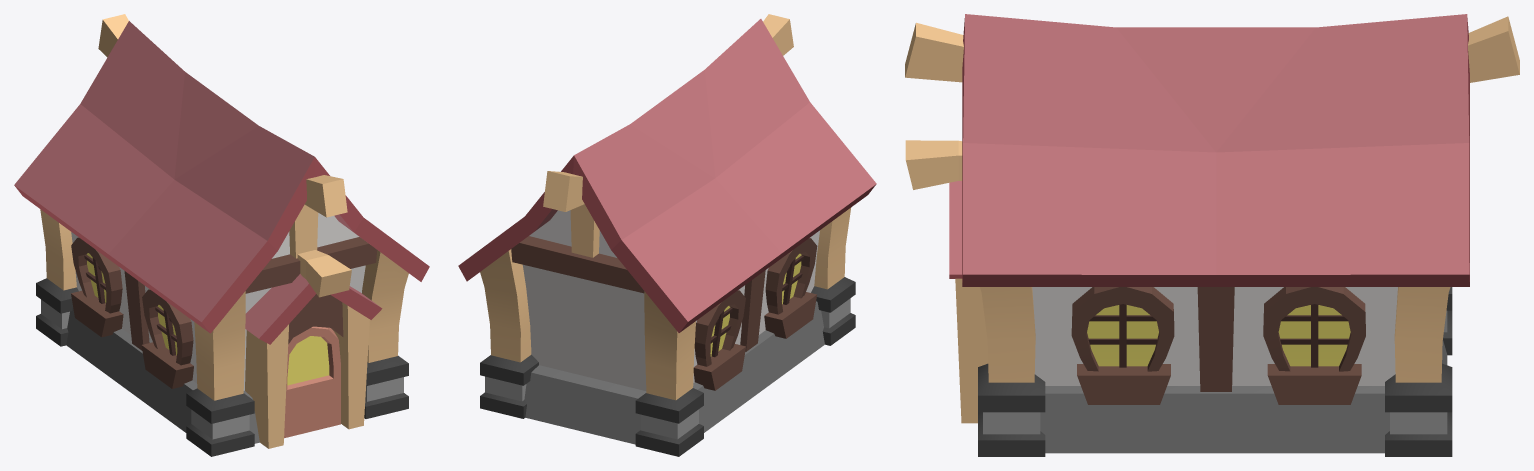
The model's file is building_011.fbx.
3 renders of one model, left to right at view 1: azimuth 30°, elevation 25°; view 2: azimuth 150°, elevation 25°; view 3: azimuth 270°, elevation 25°, orthographic. The views are drawn at different scales.
Visible parts, largest first — view 1: building.011; view 2: building.011; view 3: building.011.
Boxes of the visible parts, left/top/right/bottom form: building.011: left=14, top=14, right=429, bottom=456; building.011: left=458, top=14, right=876, bottom=456; building.011: left=905, top=14, right=1519, bottom=456.
Bounding box in the file's own units: 561 × 677 × 968.
Materials: 1 (1 with a texture image).
